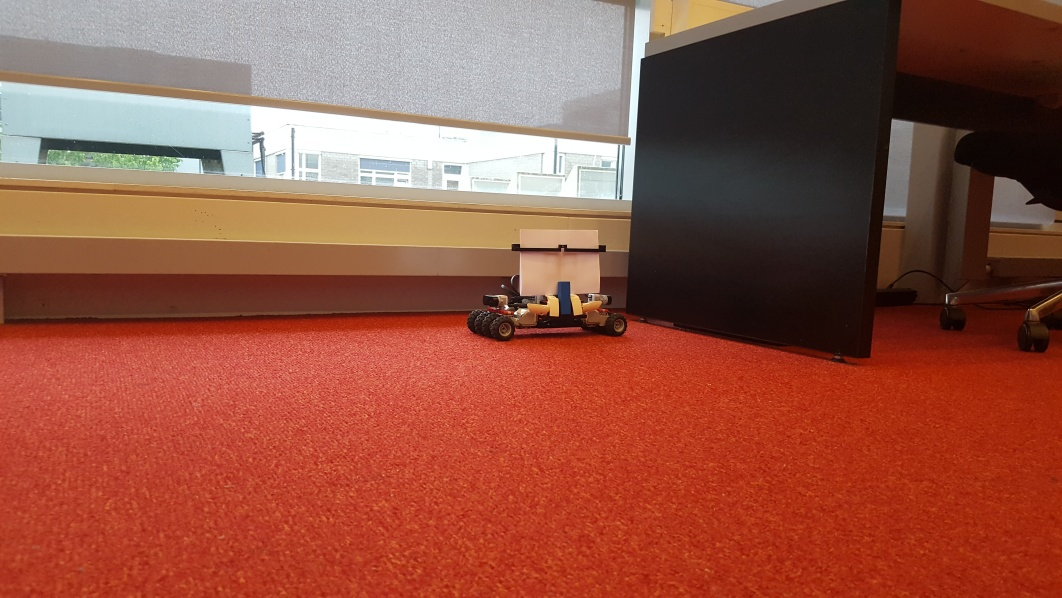car: (467, 228, 632, 342)
